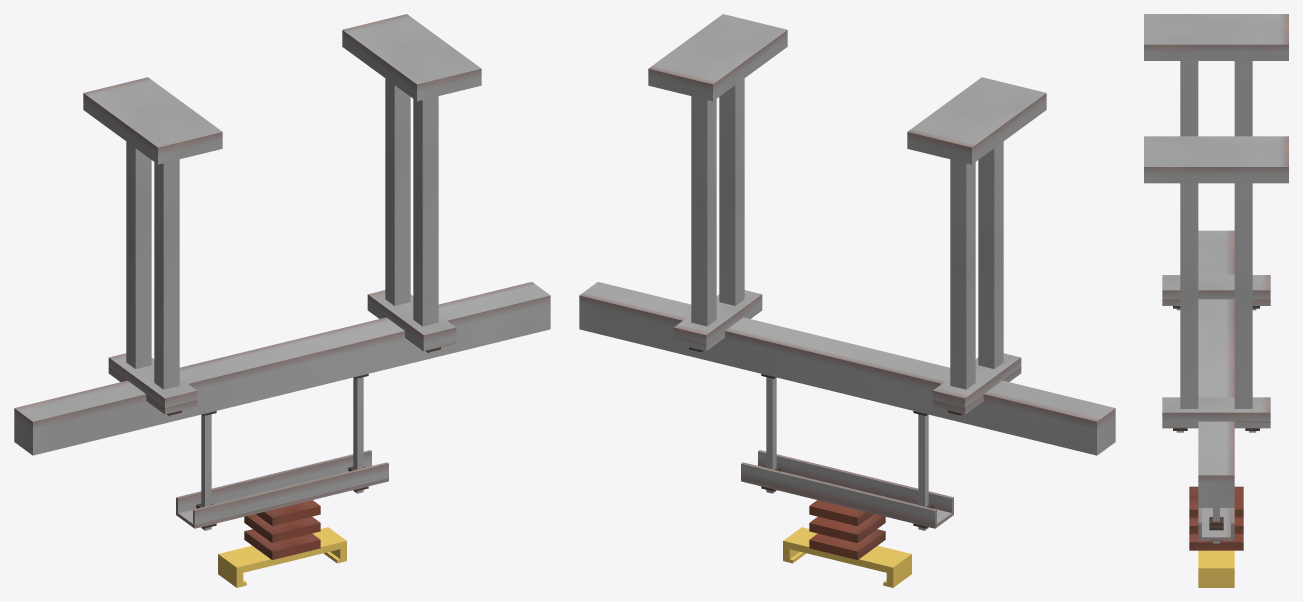
The model's file is rigid_catenary_node.obj.
3 renders of one model, left to right at view 1: azimuth 30°, elevation 25°; view 2: azimuth 150°, elevation 25°; view 3: azimuth 270°, elevation 25°, orthographic. The views are drawn at different scales.
Visible parts, largest first — view 1: cube; view 2: cube; view 3: cube.
Part boxes in pixels (bbox=[...]): cube: bbox=[14, 14, 550, 587]; cube: bbox=[579, 14, 1115, 587]; cube: bbox=[1144, 14, 1288, 587].
Size of the model in its own units: 1 by 0.8984 by 0.25.
1 material, 1 textured.
